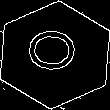O_E: (25, 32, 85, 78)
